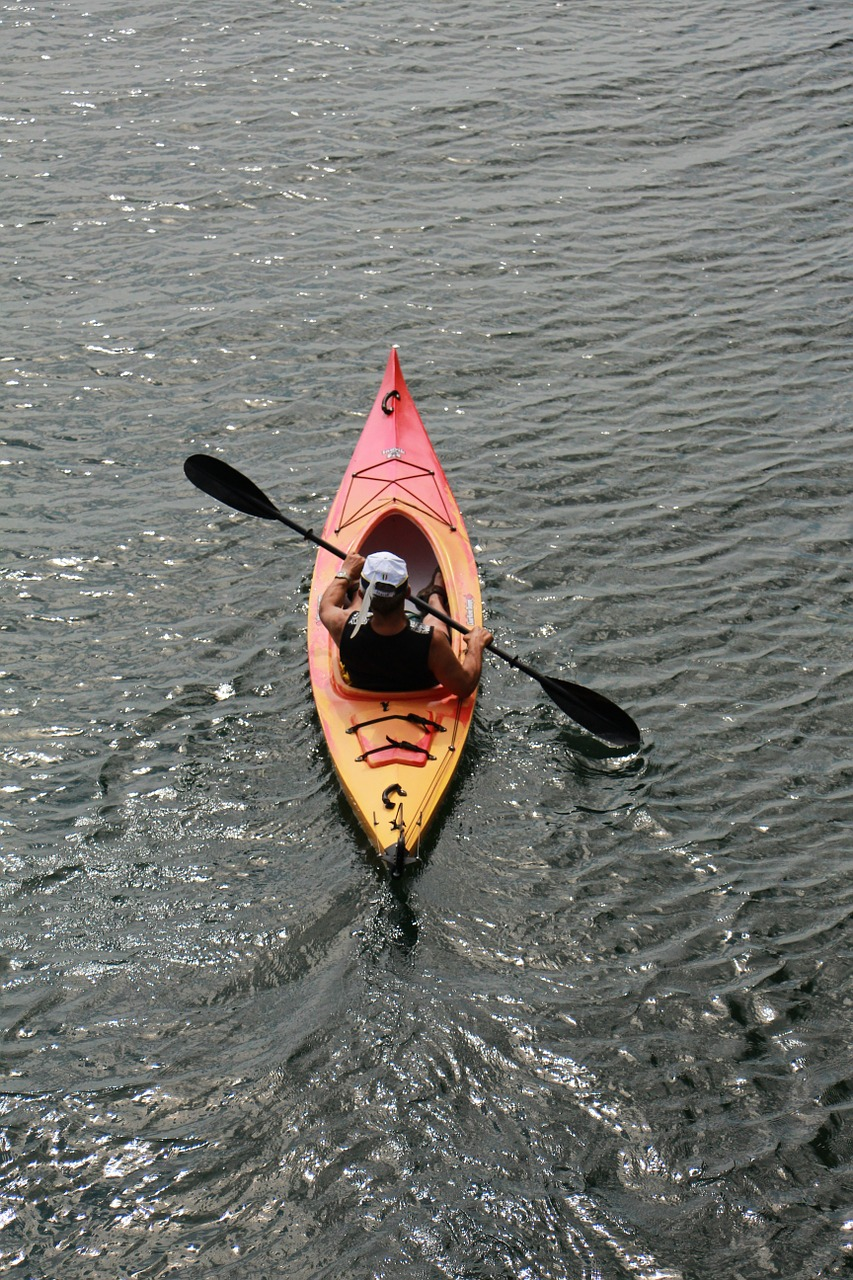kayak: (303, 337, 495, 892)
